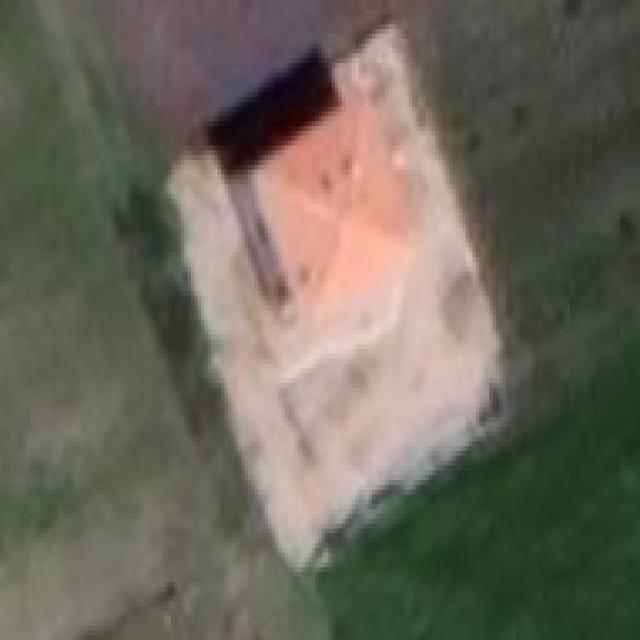Batiment: (169, 25, 500, 567)
